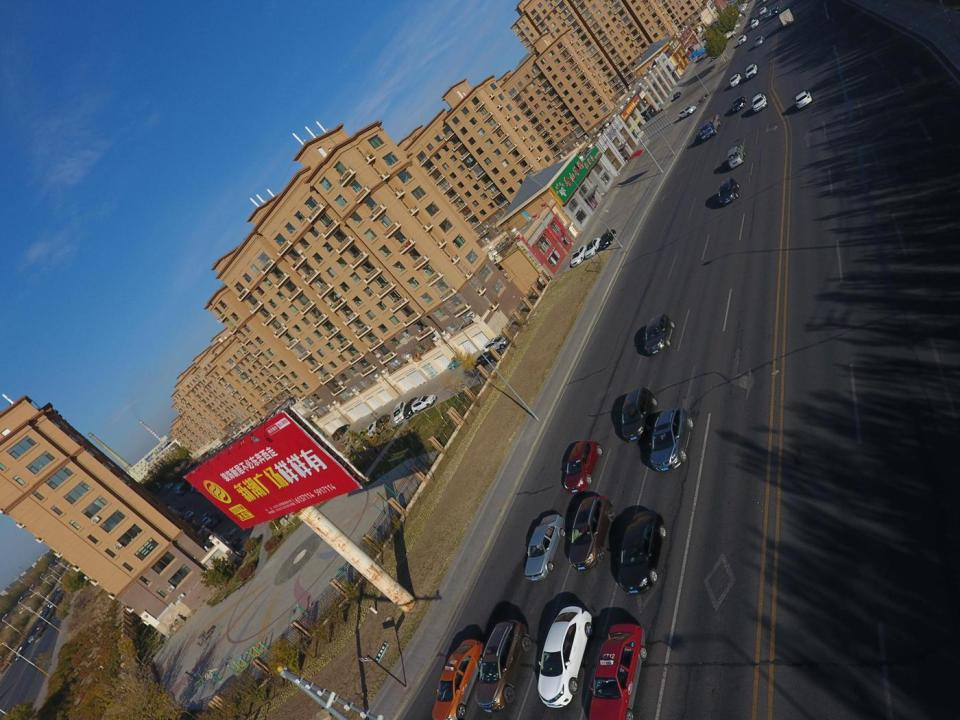car: (589, 622, 648, 720), (537, 605, 593, 706), (475, 619, 531, 713), (431, 639, 484, 720), (617, 511, 667, 595), (568, 494, 616, 570), (650, 408, 695, 472), (524, 514, 566, 581), (563, 440, 603, 493), (622, 387, 658, 441), (644, 314, 675, 355), (717, 176, 741, 206), (411, 394, 437, 413), (474, 350, 500, 368), (483, 336, 508, 354), (599, 228, 616, 250), (585, 237, 601, 260), (794, 91, 813, 110), (570, 245, 586, 267), (403, 397, 418, 419), (375, 413, 390, 435), (363, 420, 378, 442), (752, 94, 768, 112), (339, 437, 354, 456), (678, 106, 696, 120), (745, 63, 758, 81), (353, 429, 366, 447), (732, 96, 746, 112), (730, 74, 742, 88), (754, 35, 765, 48), (709, 51, 723, 61), (738, 34, 747, 45), (14, 651, 23, 662), (770, 6, 778, 17), (764, 9, 772, 20), (751, 19, 760, 28), (202, 517, 211, 526), (672, 92, 682, 100), (28, 634, 36, 643), (203, 512, 213, 519), (732, 13, 741, 20), (186, 511, 195, 518), (748, 16, 755, 24), (36, 622, 43, 630), (760, 6, 766, 15), (734, 10, 742, 16), (697, 54, 705, 60), (50, 601, 56, 609), (734, 10, 745, 14), (735, 8, 745, 12), (178, 505, 184, 511), (40, 614, 46, 620), (54, 593, 60, 599), (738, 5, 746, 9), (42, 610, 48, 615), (46, 600, 51, 606), (737, 6, 746, 9), (739, 3, 748, 6)
truck: (699, 112, 721, 142), (728, 143, 746, 170), (779, 9, 795, 28), (721, 28, 736, 44)
van: (394, 400, 407, 424), (332, 424, 350, 439)
